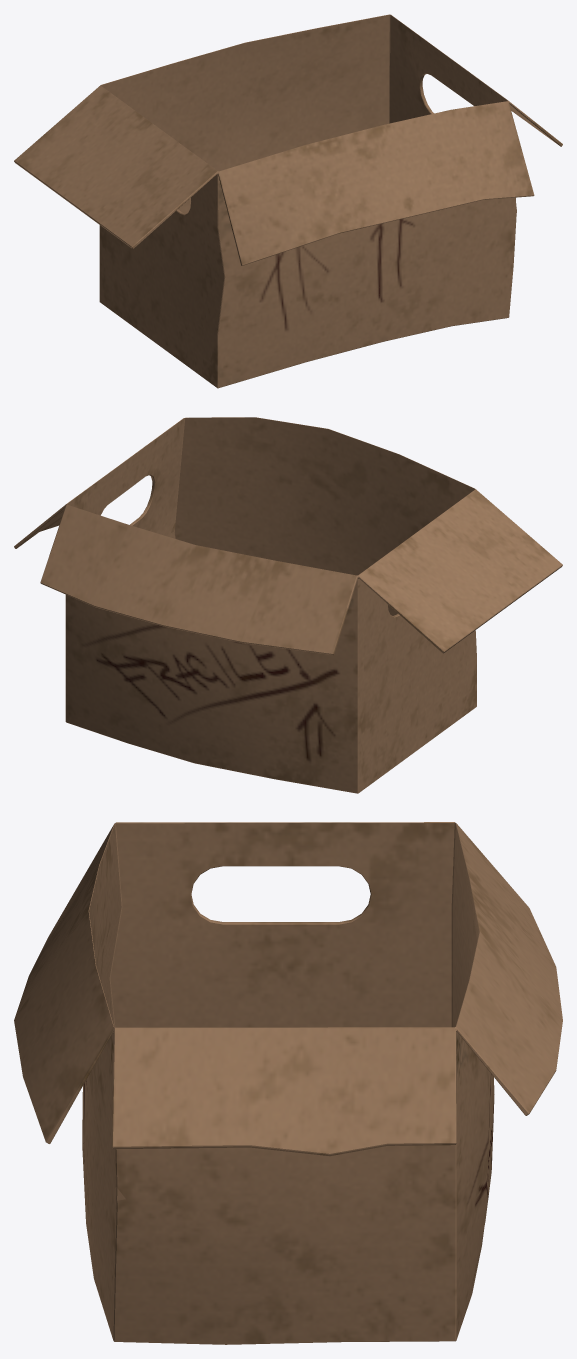
File: open_box.fbx
The picture shows the model from 3 angles, top to bottom: view 1: azimuth 30°, elevation 25°; view 2: azimuth 150°, elevation 25°; view 3: azimuth 270°, elevation 25°; orthographic projection. The views are drawn at different scales.
Parts seen in each view (by area): view 1: Cardboard Box; view 2: Cardboard Box; view 3: Cardboard Box.
Boxes of the visible parts, x1=… form: Cardboard Box: x1=14, y1=14, x2=562, y2=388; Cardboard Box: x1=14, y1=417, x2=562, y2=793; Cardboard Box: x1=14, y1=822, x2=562, y2=1344.
Bounding box in the file's own units: 33.37 × 17.29 × 25.46.
1 material, 1 textured.
